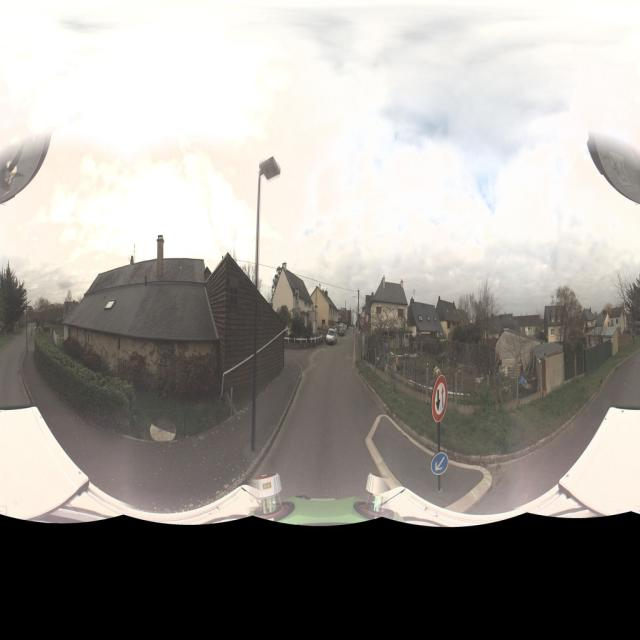car: (326, 328, 337, 346)
